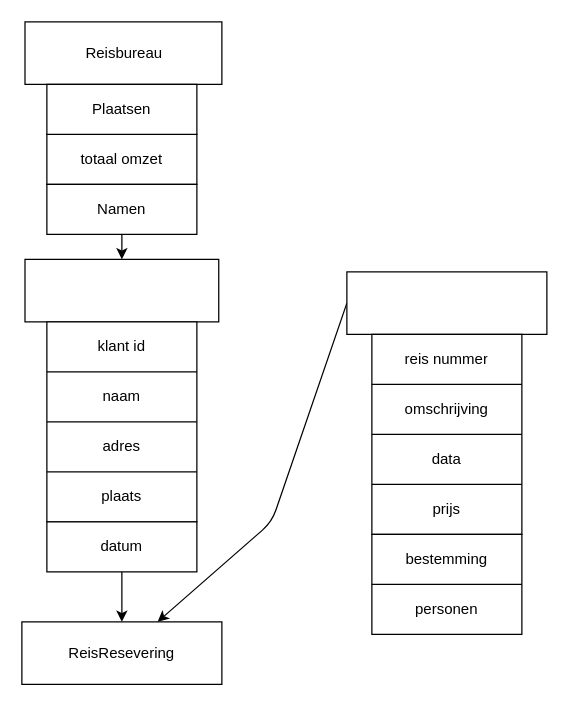
The diagram is 569 pixels wide and 706 high, and some of its shapes have lost their labels. Here are the shapes that lost their labels. From the top down, the box of each, then its label:
(24, 258, 219, 322): klant
(346, 271, 547, 334): Reis
